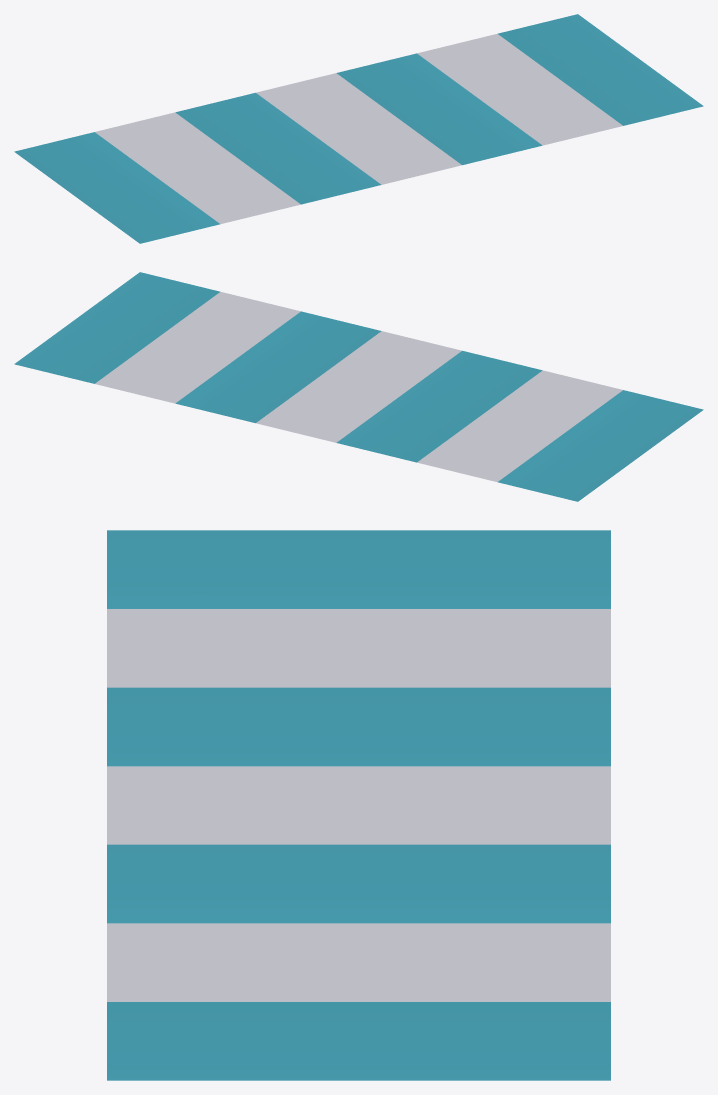
File: ETC0610018.fbx
3 views of the same model, one above another, from view 1: azimuth 30°, elevation 25°; view 2: azimuth 150°, elevation 25°; view 3: azimuth 270°, elevation 25° (orthographic). The views are drawn at different scales.
Parts seen in each view (by area): view 1: smETC0610018; view 2: smETC0610018; view 3: smETC0610018.
Part boxes in pixels (x1=…): smETC0610018: x1=14, y1=14, x2=703, y2=243; smETC0610018: x1=14, y1=272, x2=703, y2=501; smETC0610018: x1=107, y1=530, x2=610, y2=1080.
Size of the model in its own units: 398 by 0 by 154.
1 material, 1 textured.
